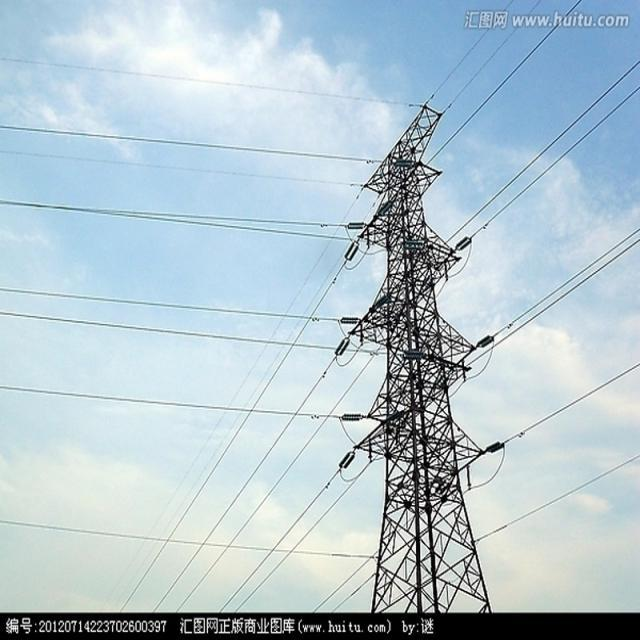non-critical vegetation: (335, 91, 511, 604)
